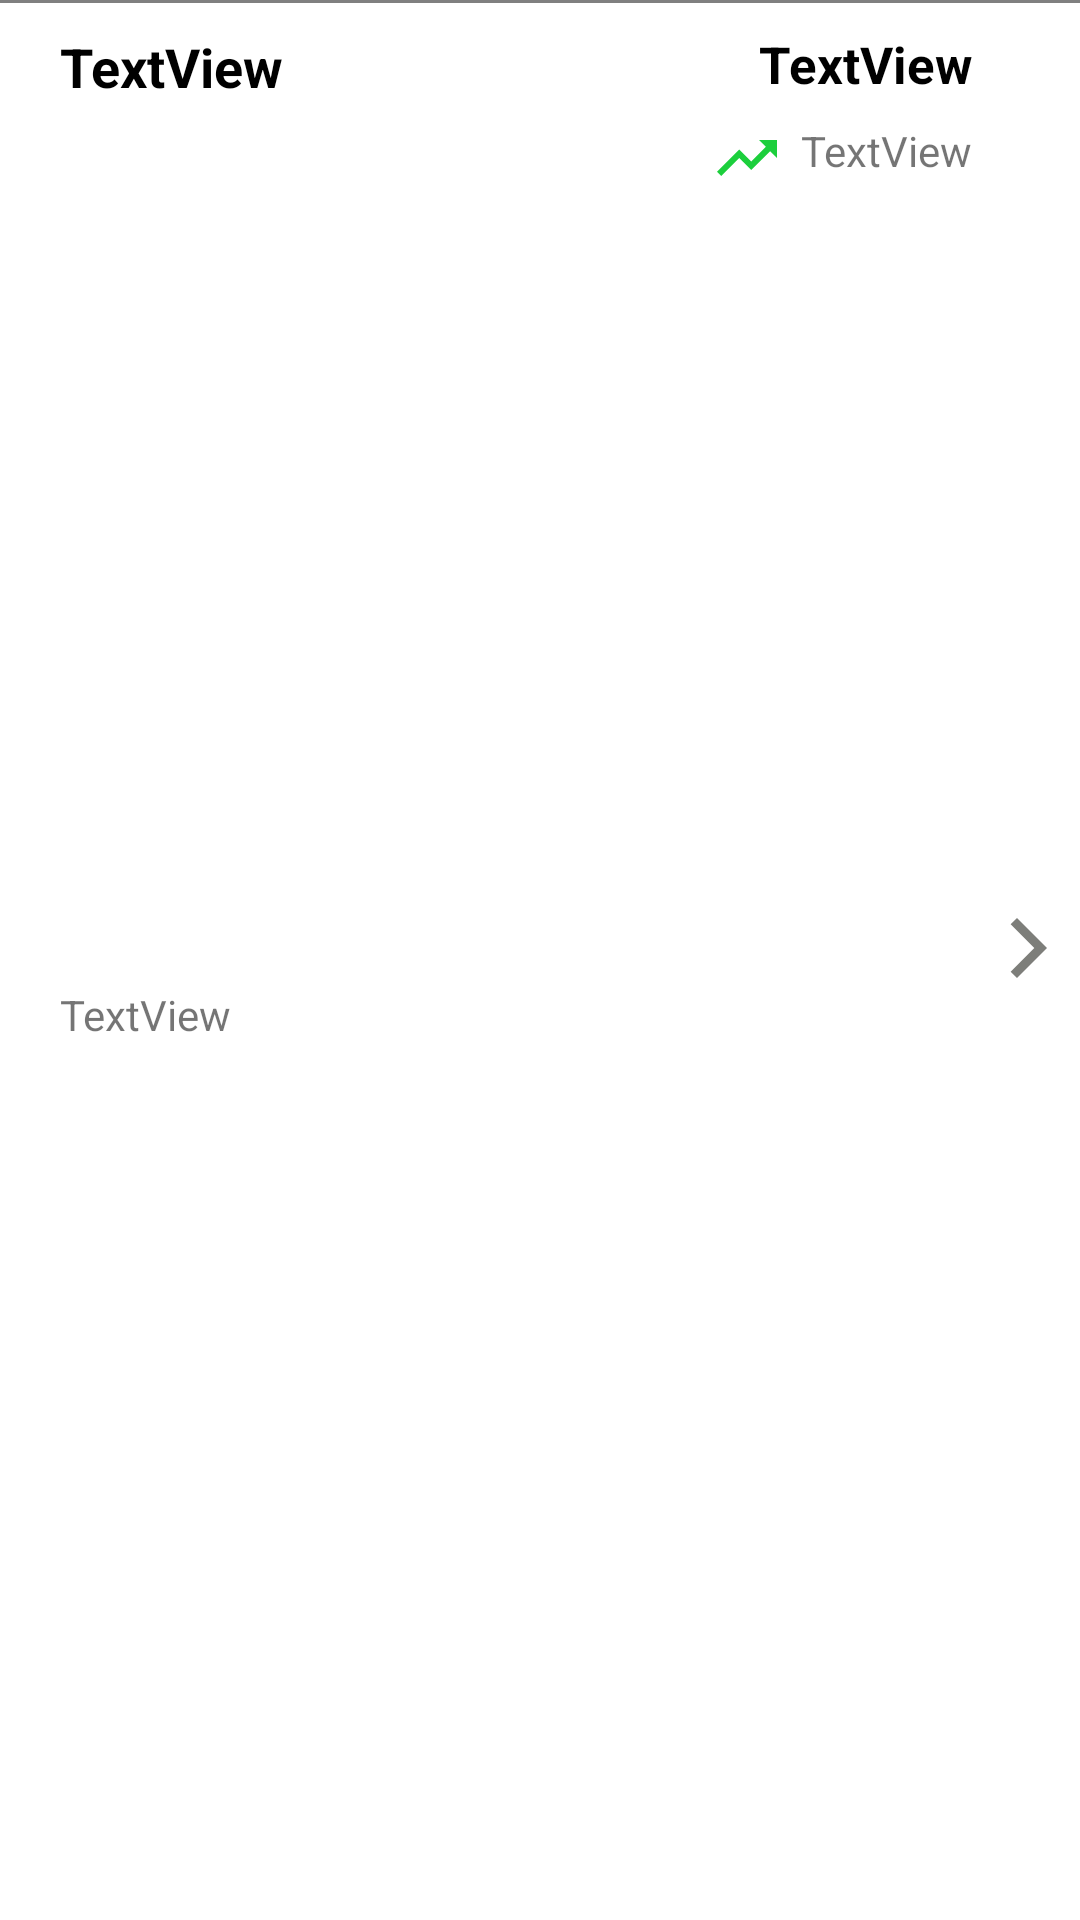

Point at icon controls on the screen. Image size 1080w x 1920h, points as [x,y].
arrow forward: [1029,948]
trending up: [747,158]
